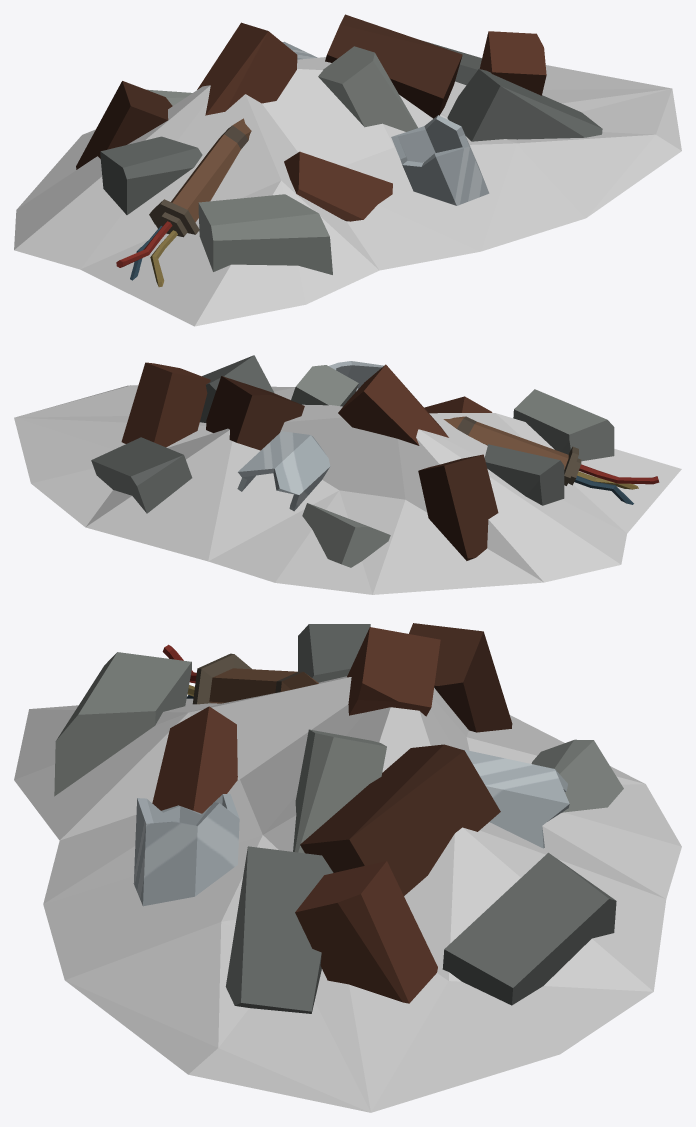
File: SM_Prop_Debris_Pile_03.fbx
The picture shows the model from 3 angles, top to bottom: view 1: azimuth 30°, elevation 25°; view 2: azimuth 150°, elevation 25°; view 3: azimuth 270°, elevation 25°; orthographic projection. The views are drawn at different scales.
Parts seen in each view (by area): view 1: SM_Prop_Debris_Pile_03; view 2: SM_Prop_Debris_Pile_03; view 3: SM_Prop_Debris_Pile_03.
Part boxes in pixels (x1,y1,x2,y2): SM_Prop_Debris_Pile_03: [14, 14, 681, 326]; SM_Prop_Debris_Pile_03: [14, 355, 681, 594]; SM_Prop_Debris_Pile_03: [14, 623, 681, 1112].
Bounding box in the file's own units: 162 × 44.23 × 104.
